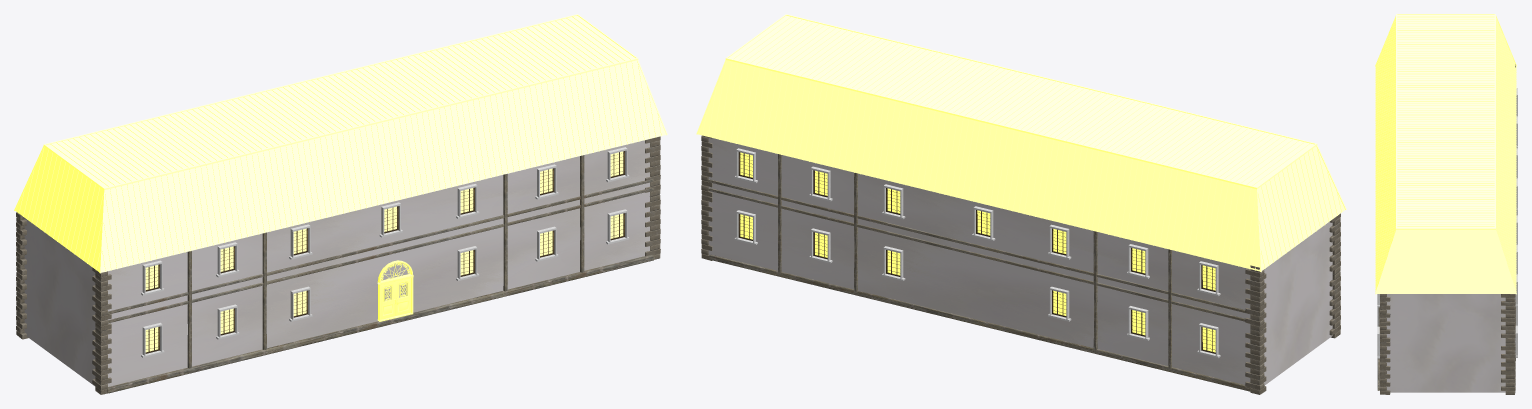
The model's file is Buiding 03.fbx.
The picture shows the model from 3 angles, left to right: view 1: azimuth 30°, elevation 25°; view 2: azimuth 150°, elevation 25°; view 3: azimuth 270°, elevation 25°; orthographic projection. The views are drawn at different scales.
Visible parts, largest first — view 1: LOD 0; view 2: LOD 0; view 3: LOD 0.
Part boxes in pixels (bbox=[...]): LOD 0: bbox=[14, 14, 667, 394]; LOD 0: bbox=[696, 14, 1346, 394]; LOD 0: bbox=[1375, 14, 1517, 394].
Size of what is drawn, in the model's own units: 3064 by 1011 by 810.
